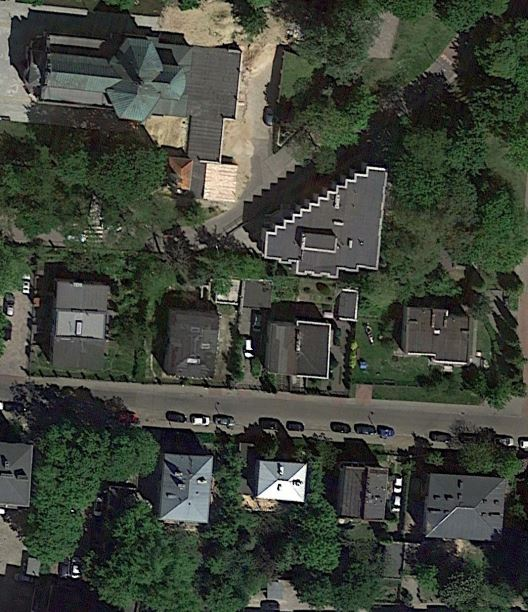block of flats: (256, 159, 397, 283)
church: (13, 18, 245, 137)
family house: (44, 271, 117, 375), (418, 468, 517, 543), (397, 295, 483, 372), (159, 303, 224, 384), (259, 314, 337, 379), (155, 448, 216, 528), (332, 464, 396, 521), (1, 433, 43, 511), (254, 459, 314, 506)
